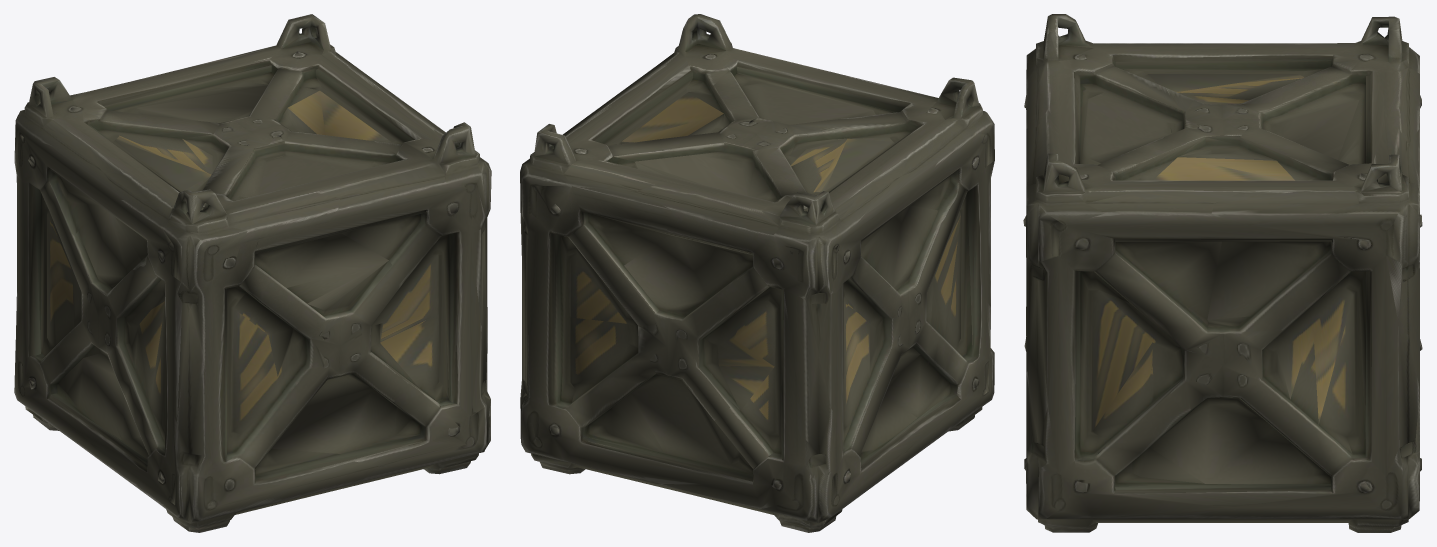
The model's file is cargo_crate.glb.
The picture shows the model from 3 angles, left to right: view 1: azimuth 30°, elevation 25°; view 2: azimuth 150°, elevation 25°; view 3: azimuth 270°, elevation 25°; orthographic projection. The views are drawn at different scales.
Size of the model in its own units: 0.9755 by 1 by 0.9791.
1 material, 1 textured.
